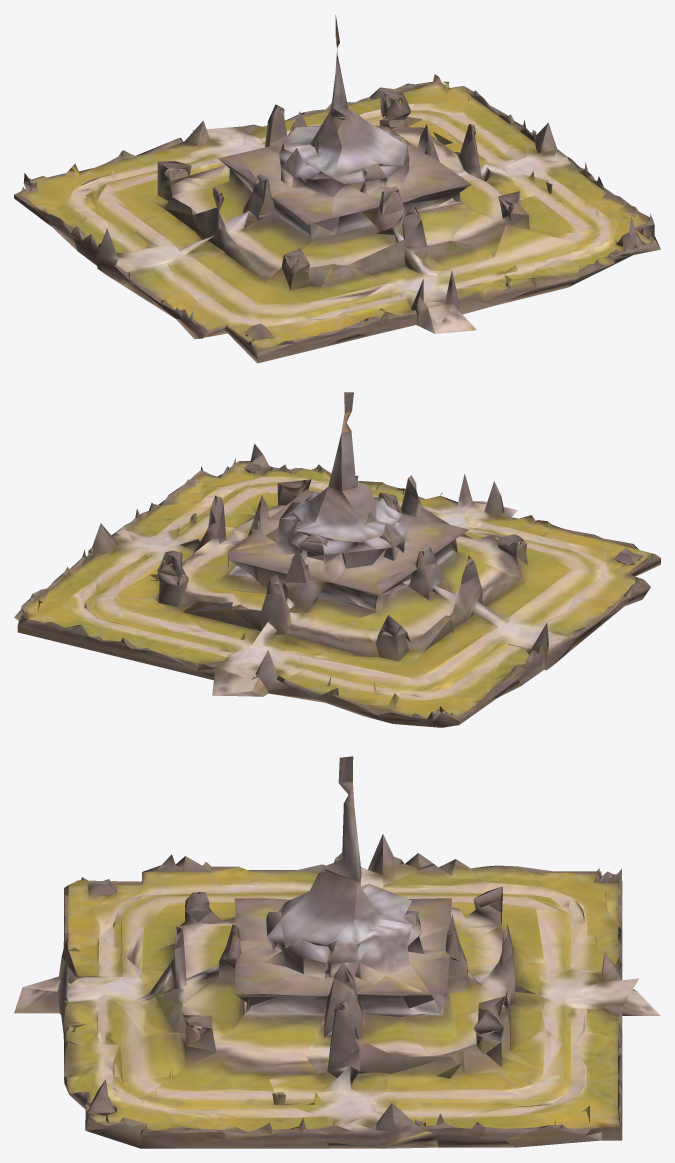
File: monumen_bajra_sandhi_lod2.glb
3 renders of one model, top to bottom at view 1: azimuth 30°, elevation 25°; view 2: azimuth 150°, elevation 25°; view 3: azimuth 270°, elevation 25°, orthographic. The views are drawn at different scales.
Parts seen in each view (by area): view 1: tripo_node_2fa82363-3f53-443d-b788-31dc93d40d07; view 2: tripo_node_2fa82363-3f53-443d-b788-31dc93d40d07; view 3: tripo_node_2fa82363-3f53-443d-b788-31dc93d40d07.
Part boxes in pixels (<box>): tripo_node_2fa82363-3f53-443d-b788-31dc93d40d07: <box>14,15,660,363</box>; tripo_node_2fa82363-3f53-443d-b788-31dc93d40d07: <box>14,392,660,727</box>; tripo_node_2fa82363-3f53-443d-b788-31dc93d40d07: <box>14,756,660,1148</box>.
Bounding box in the file's own units: 0.951 × 0.4282 × 0.9775.
Materials: 1 (1 with a texture image).
